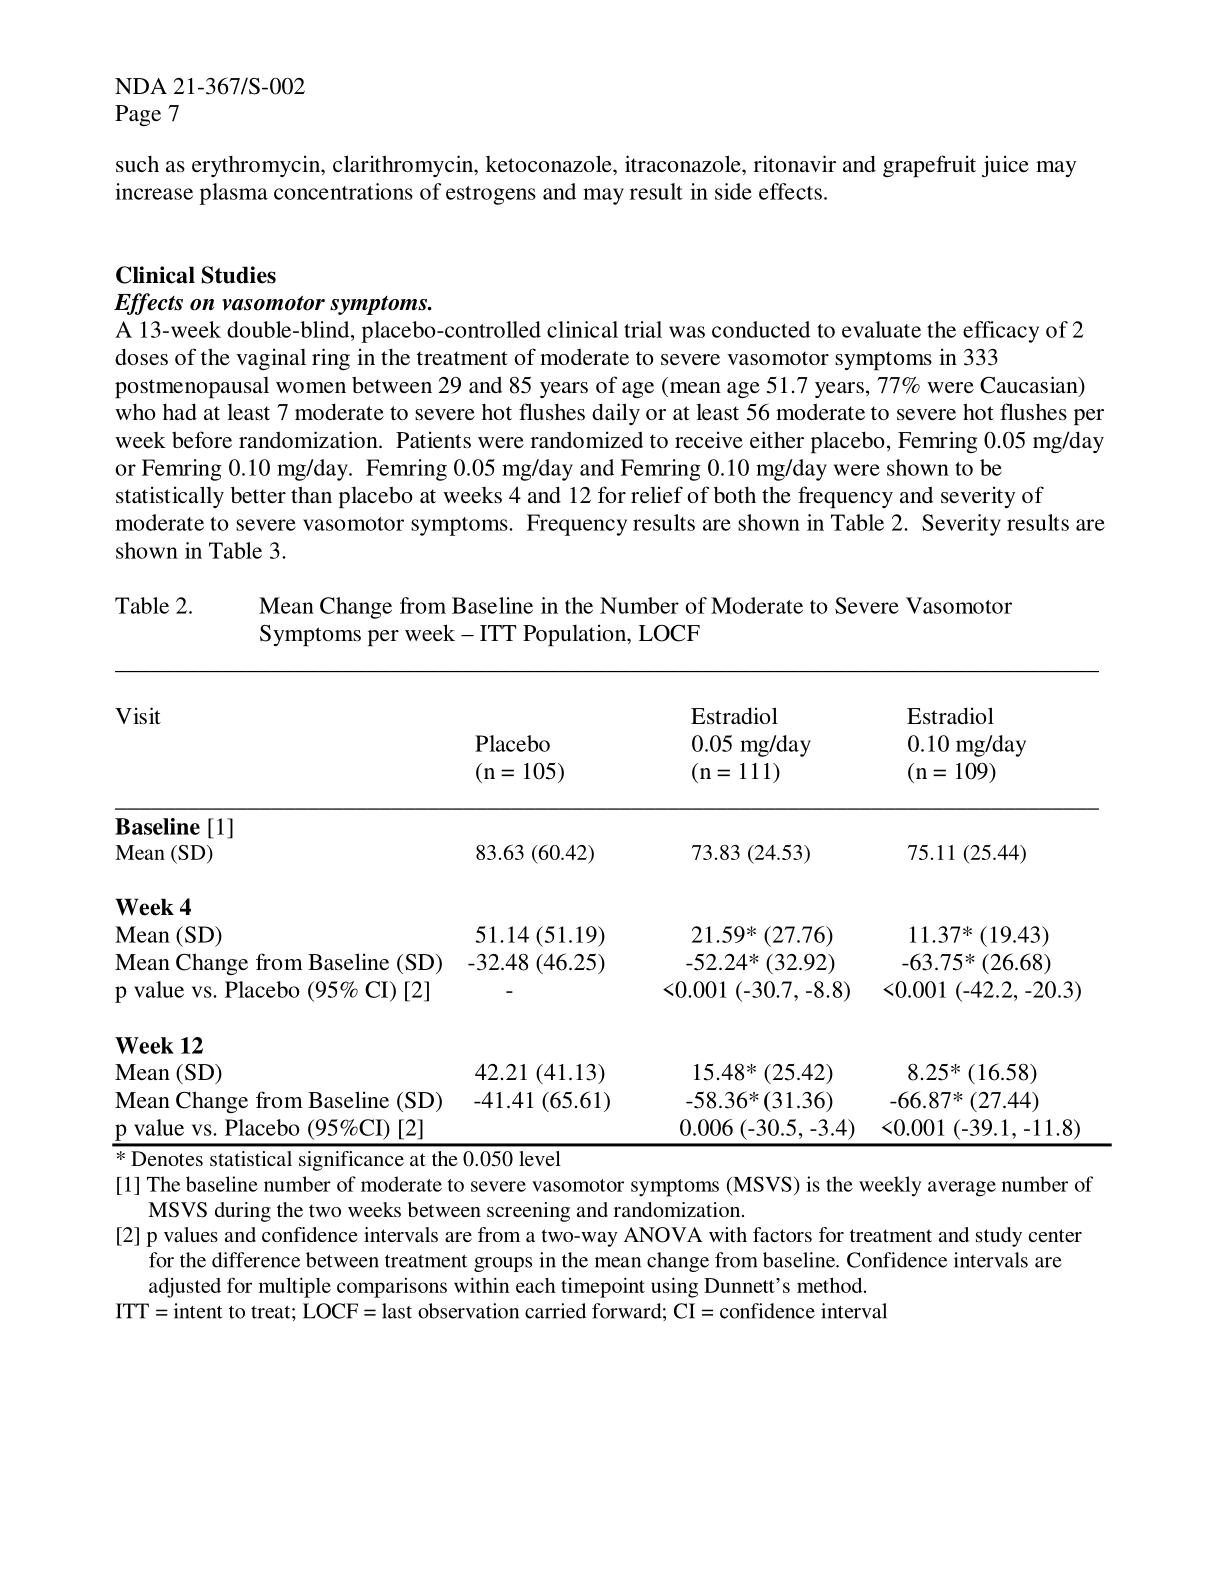partial_lined: (112, 669, 1113, 1149)
